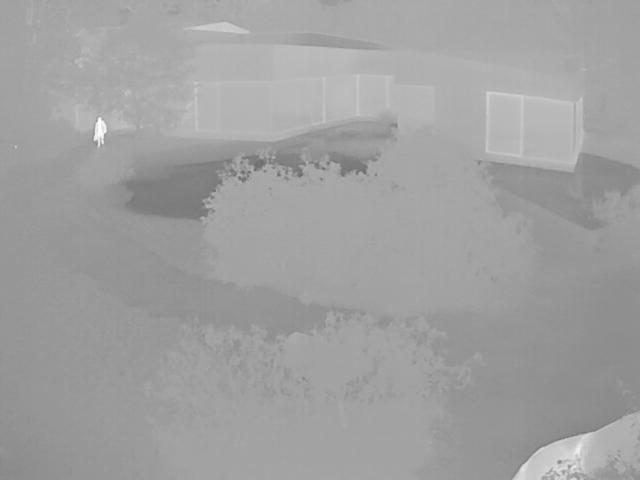person: (94, 116, 108, 149)
